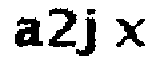2: (46, 5, 81, 50)
a: (14, 17, 43, 50)
j: (77, 6, 105, 60)
x: (112, 17, 148, 51)
